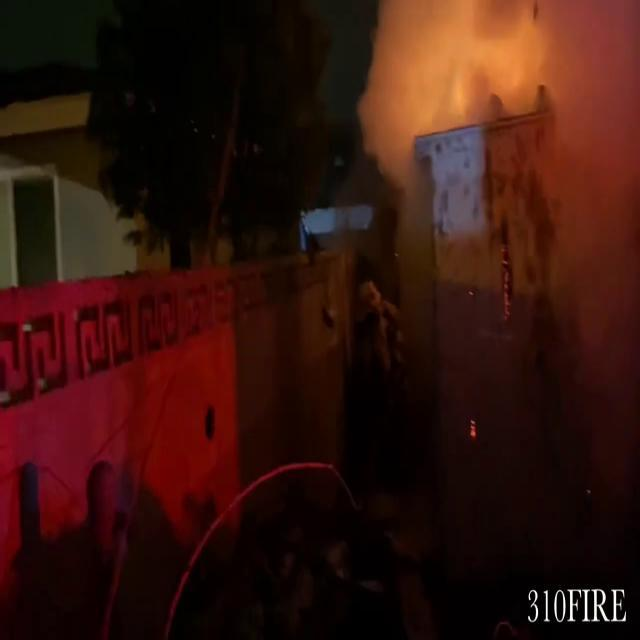Smoke: (348, 0, 640, 258), (541, 1, 640, 463)
